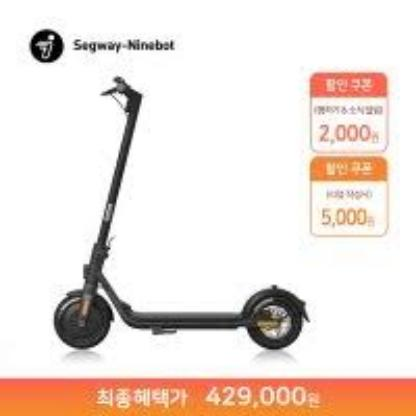bike: (52, 71, 311, 353)
